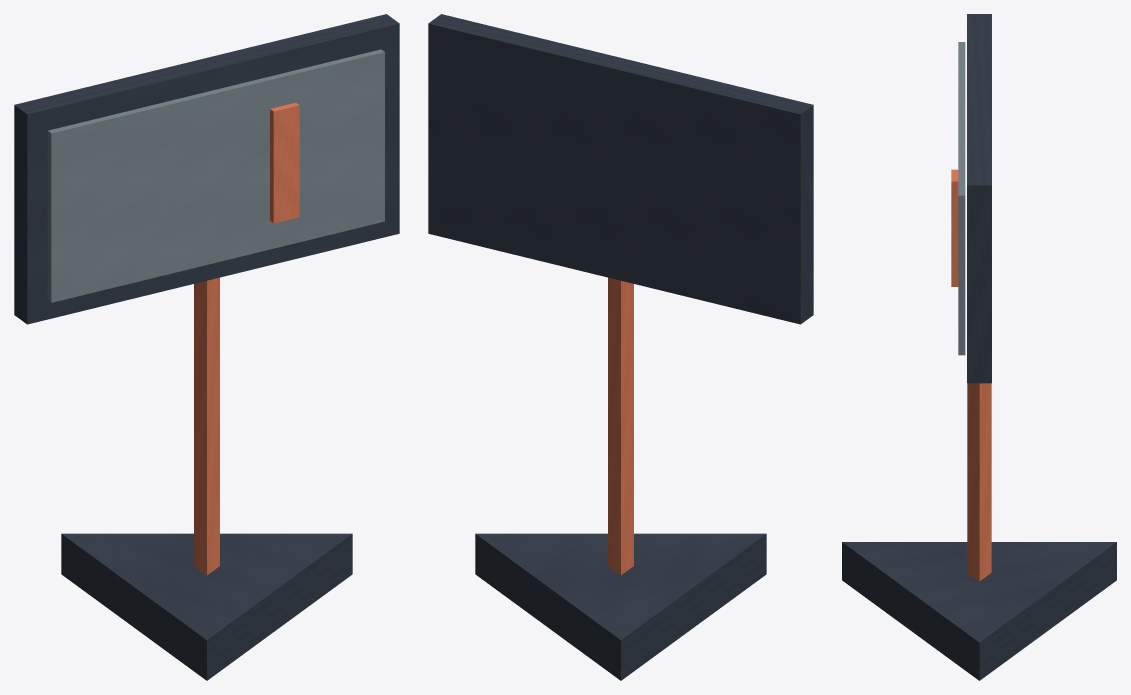
The model's file is atlas100-s021-a11.lod2.glb.
3 renders of one model, left to right at view 1: azimuth 30°, elevation 25°; view 2: azimuth 150°, elevation 25°; view 3: azimuth 270°, elevation 25°, orthographic. The views are drawn at different scales.
Parts seen in each view (by area): view 1: atlas100-s021-a11:part-003, atlas100-s021-a11:part-002, atlas100-s021-a11:part-000, atlas100-s021-a11:part-001, atlas100-s021-a11:part-006; view 2: atlas100-s021-a11:part-002, atlas100-s021-a11:part-000, atlas100-s021-a11:part-001; view 3: atlas100-s021-a11:part-000, atlas100-s021-a11:part-002, atlas100-s021-a11:part-001, atlas100-s021-a11:part-003, atlas100-s021-a11:part-006.
Part boxes in pixels (x1,y1,x2,y2): atlas100-s021-a11:part-003: [47, 49, 384, 302]; atlas100-s021-a11:part-002: [14, 14, 399, 324]; atlas100-s021-a11:part-000: [61, 533, 352, 680]; atlas100-s021-a11:part-001: [194, 277, 219, 575]; atlas100-s021-a11:part-006: [270, 102, 299, 223]; atlas100-s021-a11:part-002: [428, 14, 813, 324]; atlas100-s021-a11:part-000: [475, 533, 766, 680]; atlas100-s021-a11:part-001: [608, 277, 633, 575]; atlas100-s021-a11:part-000: [842, 542, 1116, 680]; atlas100-s021-a11:part-002: [967, 14, 991, 383]; atlas100-s021-a11:part-001: [967, 383, 991, 581]; atlas100-s021-a11:part-003: [958, 42, 965, 355]; atlas100-s021-a11:part-006: [951, 169, 958, 286].
Size of the model in its own units: 1.15 by 1.61 by 0.7794.
3 materials, 3 textured.
